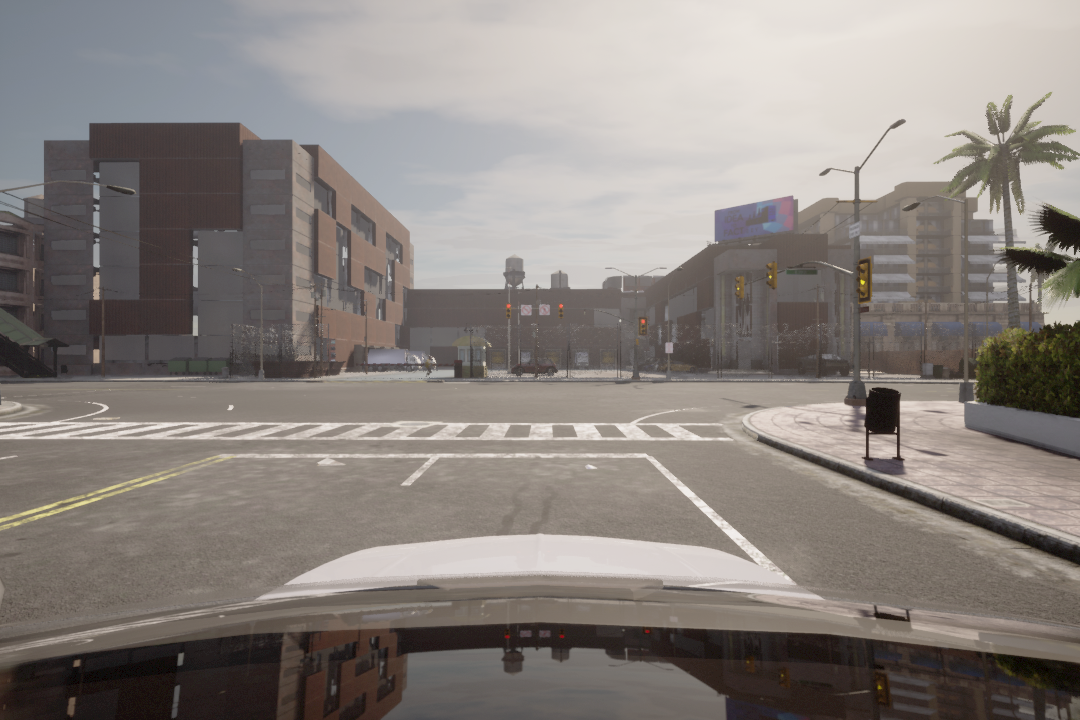TrafficLight: (854, 262, 874, 303), (729, 271, 746, 299), (764, 261, 776, 292), (501, 300, 513, 319), (637, 317, 647, 339), (557, 301, 563, 321)
walkside: (4, 418, 744, 449)
